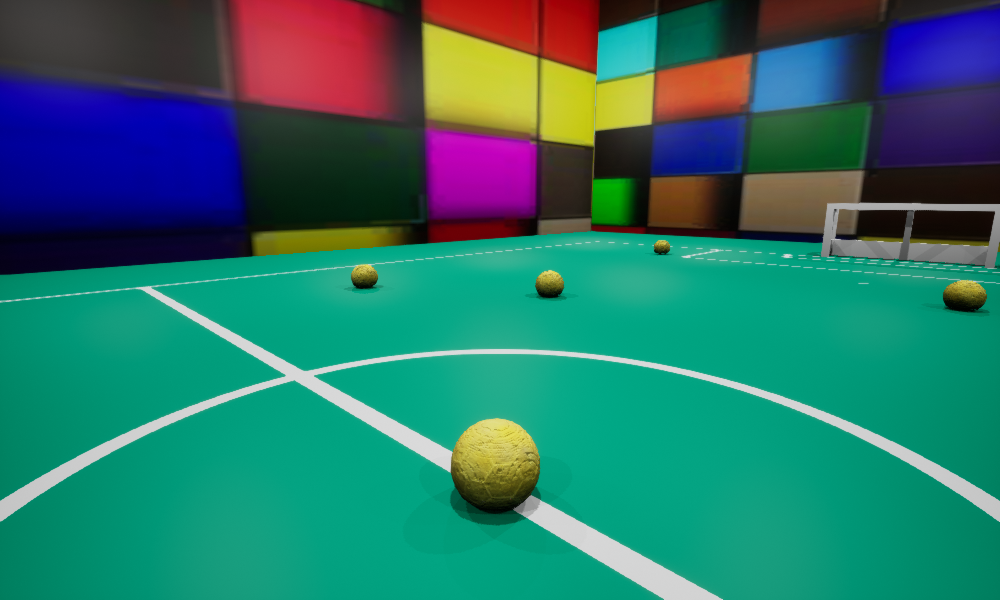b: (451, 418, 539, 511), (943, 280, 986, 310), (535, 270, 563, 297), (351, 264, 377, 288), (654, 240, 669, 253)
g: (821, 203, 999, 267)
